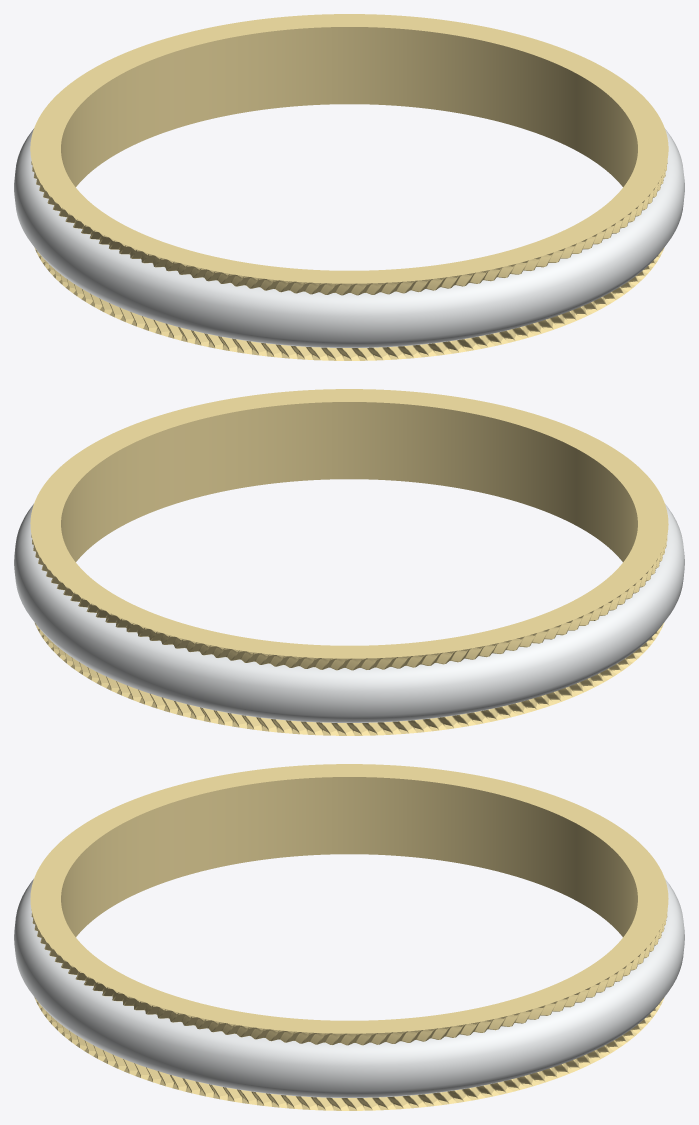
3 renders of one model, top to bottom at view 1: azimuth 30°, elevation 25°; view 2: azimuth 150°, elevation 25°; view 3: azimuth 270°, elevation 25°, orthographic.
Visible parts, largest first — view 1: Engraving_Metal, Base_Metal, Finishing_Metal; view 2: Engraving_Metal, Base_Metal, Finishing_Metal; view 3: Engraving_Metal, Base_Metal, Finishing_Metal.
Part boxes in pixels (box(x1,y1,x2,y2)): Engraving_Metal: box(61, 27, 637, 186); Base_Metal: box(30, 14, 668, 360); Finishing_Metal: box(14, 129, 684, 347); Engraving_Metal: box(61, 402, 637, 561); Base_Metal: box(30, 389, 668, 735); Finishing_Metal: box(14, 504, 684, 722); Engraving_Metal: box(61, 777, 637, 936); Base_Metal: box(30, 764, 668, 1110); Finishing_Metal: box(14, 879, 684, 1097).
Bounding box in the file's own units: 2.76 × 0.3502 × 2.76.
